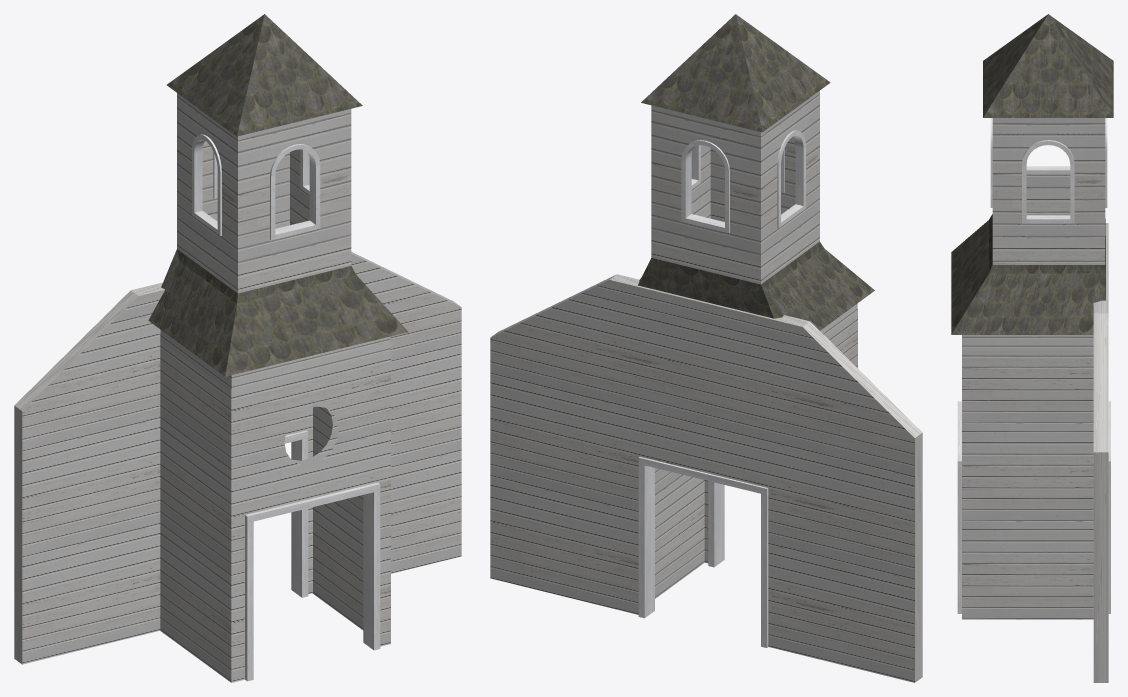
File: Wall tower.FBX
The picture shows the model from 3 angles, left to right: view 1: azimuth 30°, elevation 25°; view 2: azimuth 150°, elevation 25°; view 3: azimuth 270°, elevation 25°; orthographic projection. The views are drawn at different scales.
Visible parts, largest first — view 1: wall tower; view 2: wall tower; view 3: wall tower.
Boxes of the visible parts, <box> form: wall tower: <box>14,14,461,682</box>; wall tower: <box>490,14,922,682</box>; wall tower: <box>951,14,1113,682</box>.
Bounding box in the file's own units: 743 × 994 × 257.
Materials: 4 (4 with a texture image).
